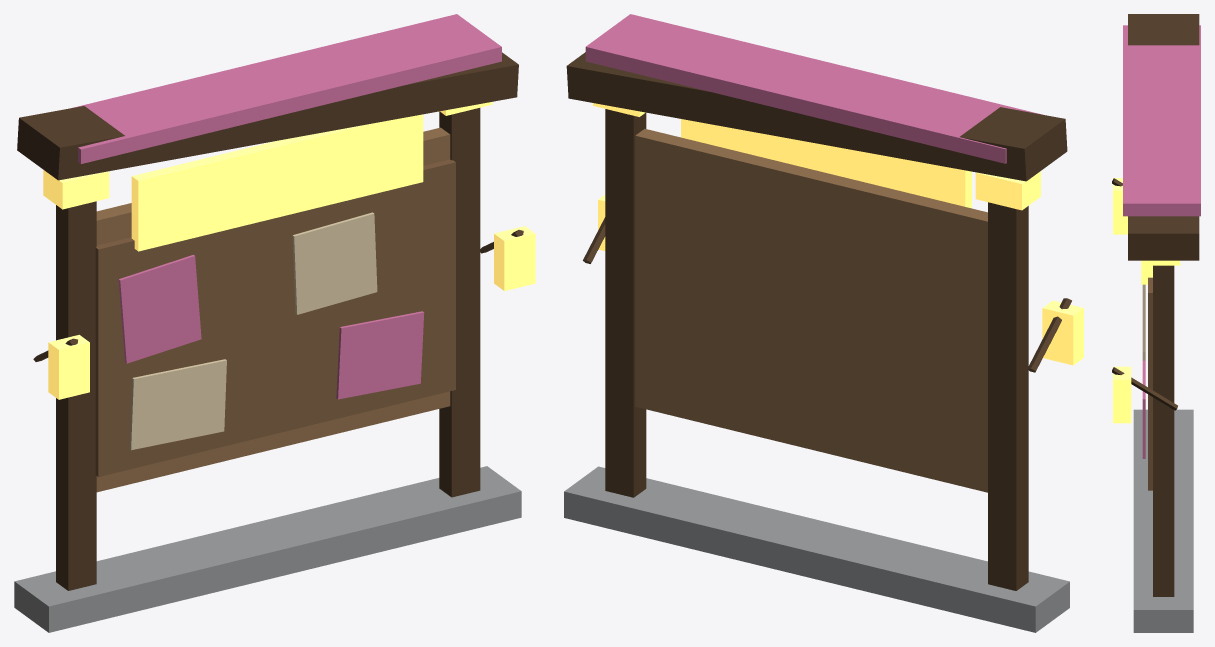
Rendered from jobs_board_rose.lod1.glb.
3 views of the same model, side by side, from view 1: azimuth 30°, elevation 25°; view 2: azimuth 150°, elevation 25°; view 3: azimuth 270°, elevation 25° (orthographic). The views are drawn at different scales.
Size of the model in its own units: 6.62 by 6.45 by 1.23.
